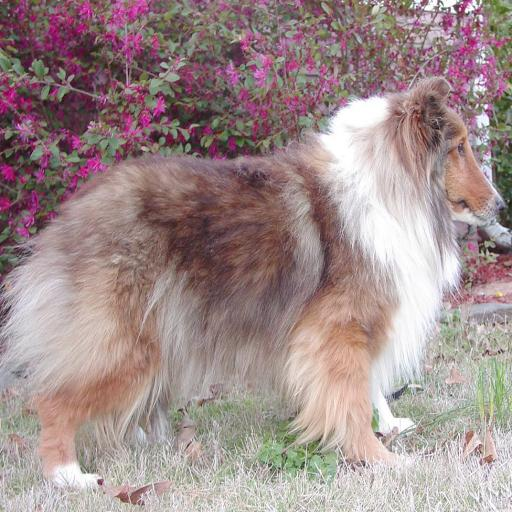dog_face: (377, 85, 506, 238)
